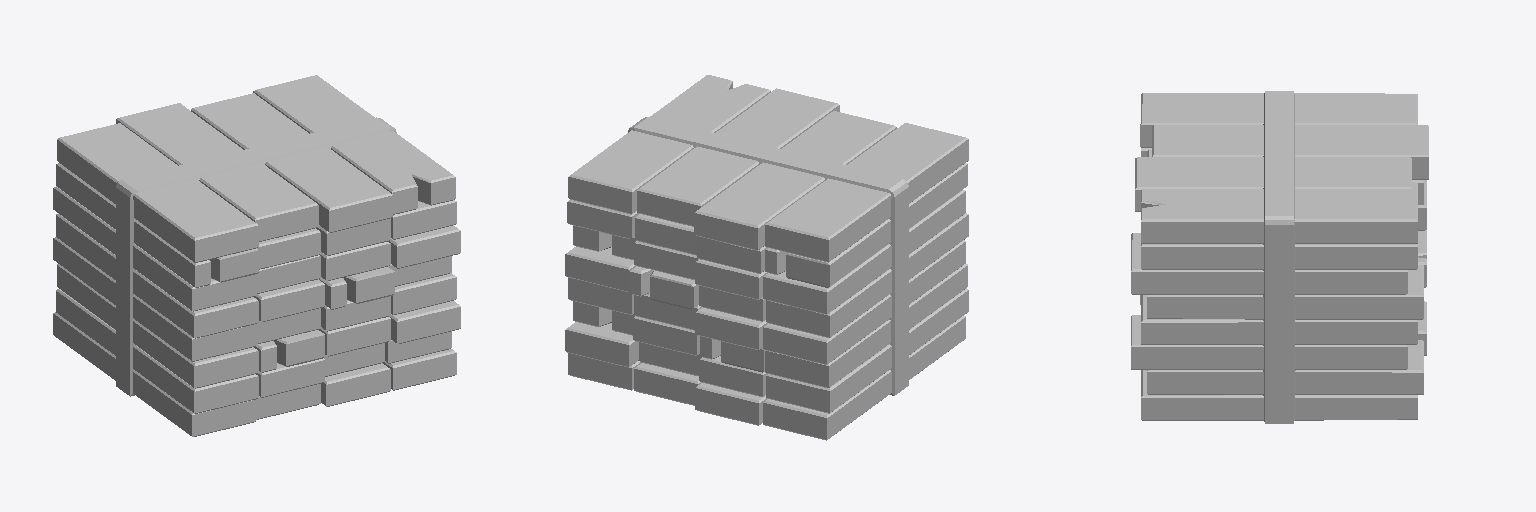
The model's file is Wood_Planks_Stack_Large.obj.
3 renders of one model, left to right at view 1: azimuth 30°, elevation 25°; view 2: azimuth 150°, elevation 25°; view 3: azimuth 270°, elevation 25°, orthographic.
Parts seen in each view (by area): view 1: Wood_Planks_Stack_Large; view 2: Wood_Planks_Stack_Large; view 3: Wood_Planks_Stack_Large.
Boxes of the visible parts, x1,y1,x2,y2 form: Wood_Planks_Stack_Large: [53, 75, 460, 436]; Wood_Planks_Stack_Large: [565, 75, 968, 440]; Wood_Planks_Stack_Large: [1131, 91, 1428, 423].
Size of the model in its own units: 1.67 by 1.22 by 1.62.